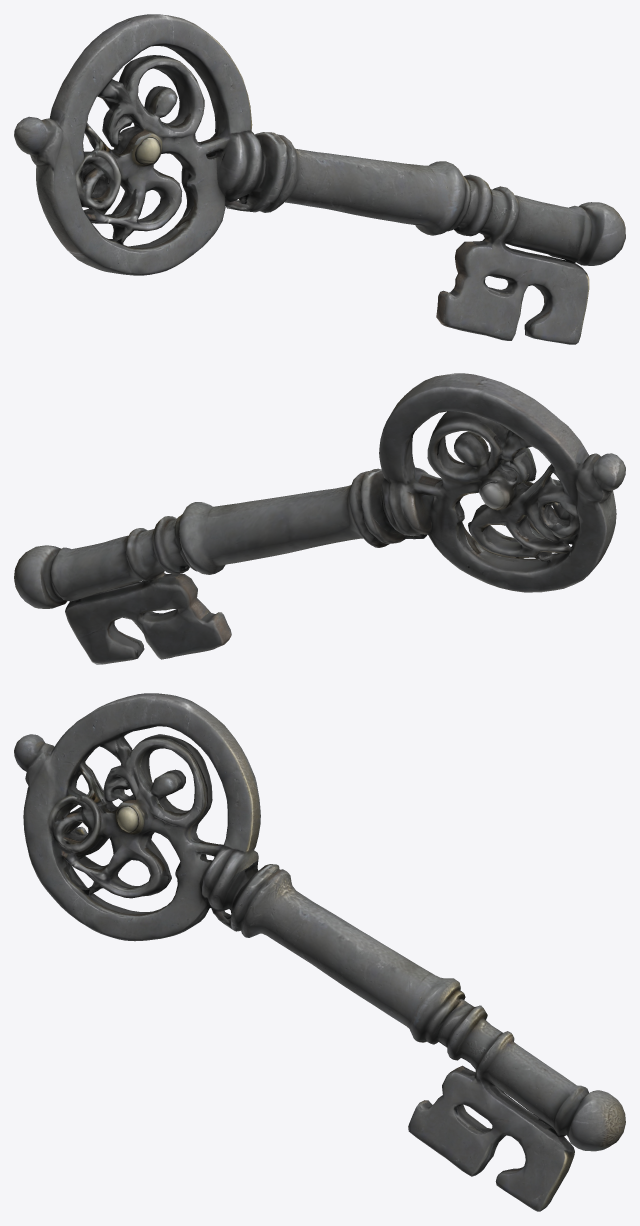
Rendered from Silver_Key.glb.
The picture shows the model from 3 angles, top to bottom: view 1: azimuth 30°, elevation 25°; view 2: azimuth 150°, elevation 25°; view 3: azimuth 330°, elevation 25°; orthographic projection.
Bounding box in the file's own units: 2 × 1.28 × 0.2631.
Materials: 1 (1 with a texture image).
